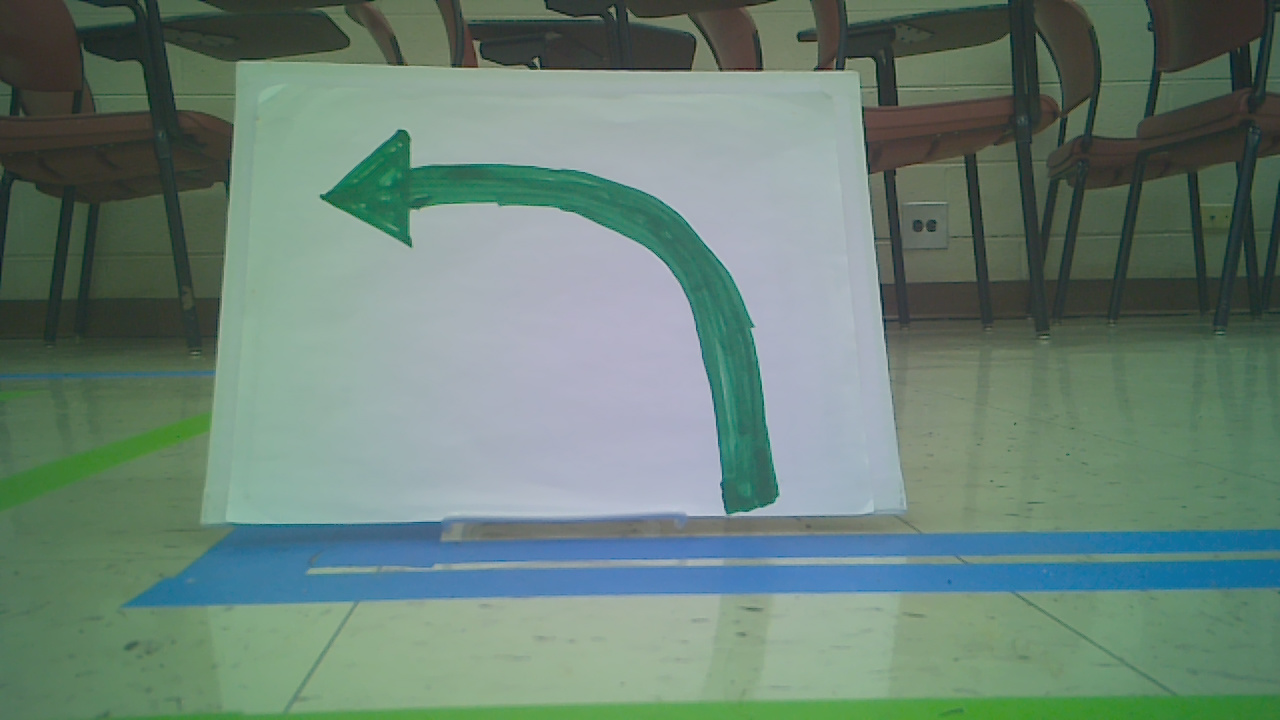left: (306, 127, 790, 509)
